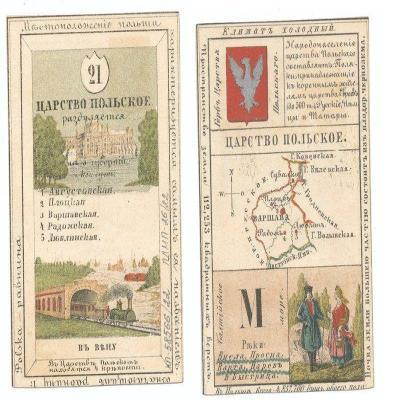graphics: (196, 17, 376, 396), (6, 11, 184, 390)
